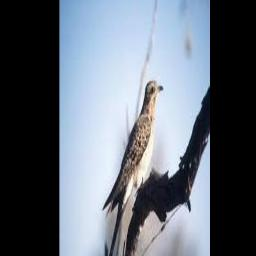Cuckoo: (102, 80, 163, 256)
